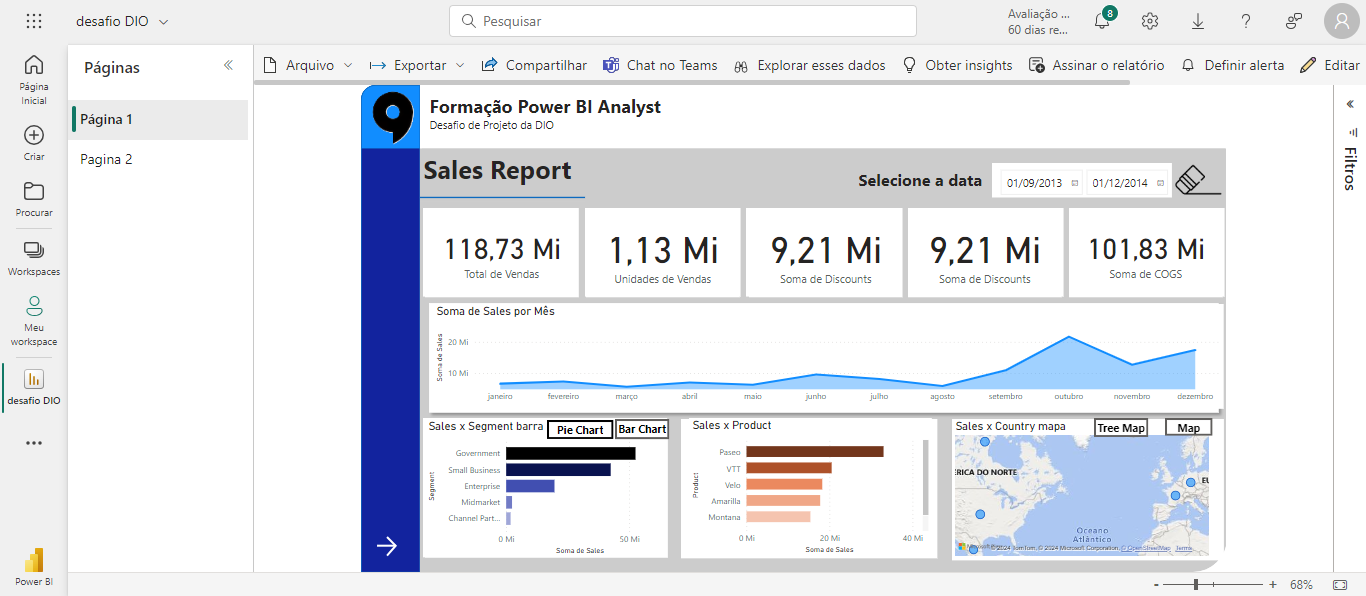

The page's visual inventory and layout, read from the dashboard file:
{"tool":"powerbi","page":{"name":"Página 1","canvas":[1280,720],"ordinal":0},"visuals":[{"type":"shape","box":[0,0,1280.5,720],"z":0},{"type":"shape","box":[92.2,182,230.1,131],"z":0,"group":"g1"},{"type":"shape","box":[92.2,491.7,361.5,206.3],"z":0,"group":"g2"},{"type":"map","title":"Sales x Country mapa","fields":{"Category":["Sheet1.Country"],"Size":["Sum(Sheet1. Sales)"]},"box":[873.7,493.2,384.9,207.8],"z":0,"group":"g3"},{"type":"image","box":[1198.5,99.5,77.6,82],"z":1000},{"type":"shape","box":[331.2,182,230.1,131],"z":1000,"group":"g1"},{"type":"shape","box":[873.7,492.5,402.4,209.3],"z":1000,"group":"g2"},{"type":"clusteredBarChart","title":"Sales x Segment barra","fields":{"Y":["Sum(Sheet1. Sales)"],"Category":["Sheet1.Segment"]},"box":[95.1,493.2,358.5,204.9],"z":1000,"group":"g4"},{"type":"actionButton","title":"Tree Map","box":[1083.6,492.1,80.4,28.3],"z":1500,"group":"g3"},{"type":"shape","box":[0,0,87.3,720.6],"z":2000},{"type":"shape","box":[570.1,182,230.1,131],"z":2000,"group":"g1"},{"type":"actionButton","title":"Map","box":[1188.3,491.7,70.2,26.3],"z":2000,"group":"g3"},{"type":"shape","box":[474.2,492.5,379,206.3],"z":2000,"group":"g2"},{"type":"actionButton","title":"Bar Chart","box":[376.2,493.6,80.4,29.8],"z":2500,"group":"g4"},{"type":"slicer","fields":{"Values":["Sheet1.Date"]},"box":[932.2,115.6,266.3,51.2],"z":3000},{"type":"shape","box":[809.1,182,230.1,131],"z":3000,"group":"g1"},{"type":"actionButton","title":"Pie Chart","box":[275,495.1,98.2,28.3],"z":3000,"group":"g4"},{"type":"shape","box":[1048,182,230.1,131],"z":4000,"group":"g1"},{"type":"shape","box":[92.2,313.2,1185.4,180],"z":4000},{"type":"textbox","box":[730.2,118.5,193.2,42.4],"z":5000},{"type":"card","fields":{"Values":["Sum(Sheet1.Units Sold)"]},"box":[333.7,181.5,226.8,131.7],"z":5000,"group":"g1"},{"type":"shape","box":[0,0,87.3,94.1],"z":6000},{"type":"card","fields":{"Values":["Sum(Sheet1.Discounts)"]},"box":[809.3,181.5,226.8,131.7],"z":6000,"group":"g1"},{"type":"actionButton","box":[1200,101,74.6,73.2],"z":7000},{"type":"card","fields":{"Values":["Sum(Sheet1.Discounts)"]},"box":[573.7,181.5,226.8,131.7],"z":7000,"group":"g1"},{"type":"image","box":[0,0,95.7,95.7],"z":8000},{"type":"card","fields":{"Values":["Sum(Sheet1. Sales)"]},"box":[95.1,181.5,226.8,131.7],"z":8000,"group":"g1"},{"type":"shape","box":[87.3,0,1192.7,94.1],"z":9000},{"type":"card","fields":{"Values":["Sum(Sheet1.COGS)"]},"box":[1047.8,181.5,226.8,131.7],"z":9000,"group":"g1"},{"type":"textbox","box":[95.7,6.7,582.9,77.3],"z":10000},{"type":"group","id":"g1","title":"Cartões","box":[92.2,181.5,1185.9,131.7],"z":11000},{"type":"textbox","box":[87.8,95.1,244.4,77.6],"z":12000},{"type":"shape","box":[87.8,159.5,244.4,13.2],"z":13000},{"type":"group","id":"g2","title":"Grupo 1","box":[92.2,491.7,1184,210.1],"z":14000},{"type":"areaChart","fields":{"Category":["Sheet1.Date.Variation.Hierarquia de datas.Mês"],"Y":["Sum(Sheet1. Sales)"]},"box":[106.8,323.4,1169.3,155.1],"z":15000},{"type":"clusteredBarChart","title":"Sales x Product","fields":{"Y":["Sum(Sheet1. Sales)"],"Category":["Sheet1.Product"]},"box":[484.4,491.7,358.5,204.9],"z":16000},{"type":"group","id":"g3","title":"Sales Country","box":[871.6,491.7,387,210.7],"z":17000},{"type":"group","id":"g4","title":"Sales Segment","box":[95.1,491.7,361.5,206.3],"z":18000},{"type":"actionButton","box":[17.6,662.9,61.5,39.5],"z":19000}]}

Visuals, with their boxes on the page's 1280x720 design canvas (x1, y1, x2, y2). These are canvas units, not pixel positions in the 1366x596 screenshot, which may show the page scaled, cropped or inside an application window:
shape: bbox(0, 0, 1280, 720)
shape: bbox(92, 182, 322, 313)
shape: bbox(92, 492, 454, 698)
"Sales x Country mapa" map: bbox(874, 493, 1259, 701)
image: bbox(1198, 100, 1276, 182)
shape: bbox(331, 182, 561, 313)
shape: bbox(874, 492, 1276, 702)
"Sales x Segment barra" clusteredBarChart: bbox(95, 493, 454, 698)
"Tree Map" actionButton: bbox(1084, 492, 1164, 520)
shape: bbox(0, 0, 87, 721)
shape: bbox(570, 182, 800, 313)
"Map" actionButton: bbox(1188, 492, 1258, 518)
shape: bbox(474, 492, 853, 699)
"Bar Chart" actionButton: bbox(376, 494, 457, 523)
slicer - Sheet1.Date: bbox(932, 116, 1198, 167)
shape: bbox(809, 182, 1039, 313)
"Pie Chart" actionButton: bbox(275, 495, 373, 523)
shape: bbox(1048, 182, 1278, 313)
shape: bbox(92, 313, 1278, 493)
textbox: bbox(730, 118, 923, 161)
card - Sum(Sheet1.Units Sold): bbox(334, 182, 560, 313)
shape: bbox(0, 0, 87, 94)
card - Sum(Sheet1.Discounts): bbox(809, 182, 1036, 313)
actionButton: bbox(1200, 101, 1275, 174)
card - Sum(Sheet1.Discounts): bbox(574, 182, 800, 313)
image: bbox(0, 0, 96, 96)
card - Sum(Sheet1. Sales): bbox(95, 182, 322, 313)
shape: bbox(87, 0, 1280, 94)
card - Sum(Sheet1.COGS): bbox(1048, 182, 1275, 313)
textbox: bbox(96, 7, 679, 84)
"Cartões" group: bbox(92, 182, 1278, 313)
textbox: bbox(88, 95, 332, 173)
shape: bbox(88, 160, 332, 173)
"Grupo 1" group: bbox(92, 492, 1276, 702)
areaChart - Sheet1.Date.Variation.Hierarquia de datas.Mês x Sum(Sheet1. Sales): bbox(107, 323, 1276, 478)
"Sales x Product" clusteredBarChart: bbox(484, 492, 843, 697)
"Sales Country" group: bbox(872, 492, 1259, 702)
"Sales Segment" group: bbox(95, 492, 457, 698)
actionButton: bbox(18, 663, 79, 702)
